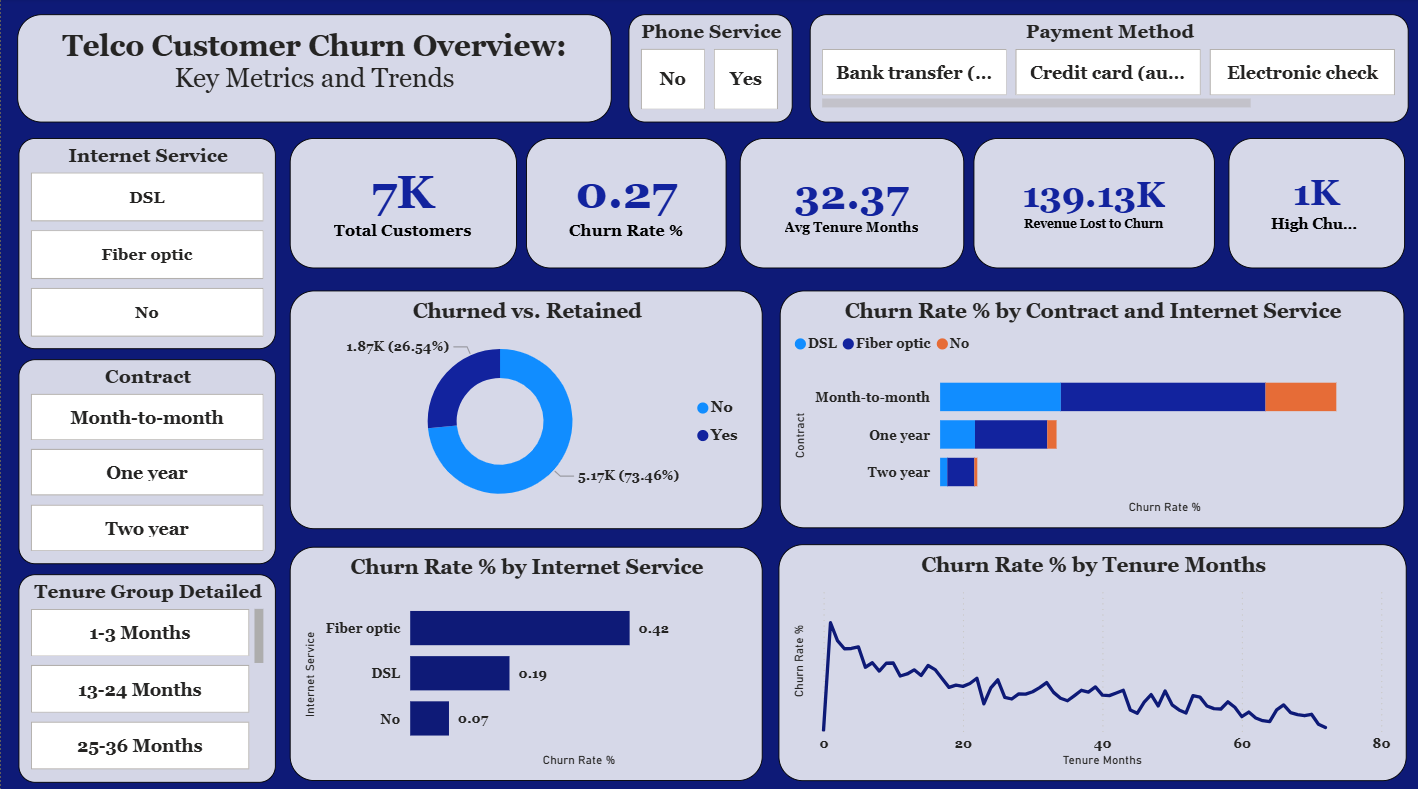

This screenshot's page, from the dashboard's own definition file:
{"tool":"powerbi","page":{"name":"overview","canvas":[1280,720],"ordinal":0},"visuals":[{"type":"cardVisual","fields":{"Data":["Telco_customer_churn.Total Customers"]},"box":[260,126.7,204.4,117.8],"z":0},{"type":"cardVisual","fields":{"Data":["Telco_customer_churn.Revenue Lost to Churn"]},"box":[876.7,126.7,217.8,117.8],"z":1000},{"type":"cardVisual","fields":{"Data":["Telco_customer_churn.Avg Tenure Months"]},"box":[666.7,126.7,202.2,117.8],"z":2000},{"type":"cardVisual","fields":{"Data":["Telco_customer_churn.Churn Rate %"]},"box":[473.3,126.7,181.1,117.8],"z":3000},{"type":"donutChart","title":"Churned vs. Retained","fields":{"Category":["Telco_customer_churn.Churn Label"],"Y":["CountNonNull(Telco_customer_churn.CustomerID)"]},"box":[260,263.3,426.7,215.6],"z":4000},{"type":"barChart","fields":{"Category":["Telco_customer_churn.Contract"],"Y":["Telco_customer_churn.Churn Rate %"],"Series":["Telco_customer_churn.Internet Service"]},"box":[702.2,263.3,563.3,214.4],"z":5000},{"type":"advancedSlicerVisual","fields":{"Values":["Telco_customer_churn.Contract"]},"box":[15.6,325.6,232.2,184.4],"z":6000},{"type":"advancedSlicerVisual","fields":{"Values":["Telco_customer_churn.Tenure Group Detailed"]},"box":[15.6,520,232.2,187.8],"z":7000},{"type":"clusteredBarChart","fields":{"Y":["Telco_customer_churn.Churn Rate %"],"Category":["Telco_customer_churn.Internet Service"]},"box":[260,495,426.2,211.2],"z":8000},{"type":"lineChart","fields":{"Y":["Telco_customer_churn.Churn Rate %"],"Category":["Telco_customer_churn.Tenure Months"]},"box":[701.1,493.1,566.7,213.8],"z":9000},{"type":"advancedSlicerVisual","fields":{"Values":["Telco_customer_churn.Internet Service"]},"box":[15.6,126.7,232.2,190],"z":10000},{"type":"advancedSlicerVisual","fields":{"Values":["Telco_customer_churn.Payment Method"]},"box":[728.9,14.4,540,97.8],"z":11000},{"type":"advancedSlicerVisual","fields":{"Values":["Telco_customer_churn.Phone Service"]},"box":[565.6,14.4,147.8,97.8],"z":12000},{"type":"cardVisual","fields":{"Data":["Telco_customer_churn.High Churn Risk Customers"]},"box":[1106.7,126.7,158.9,117.8],"z":13000},{"type":"textbox","box":[15,15,536.2,97.5],"z":14000}]}

Visuals, with their boxes in screenshot pixels (x1, y1, x2, y2), scaled from the page's 1280x720 canvas onto the 1418x789 screenshot:
cardVisual - Telco_customer_churn.Total Customers: (x1=288, y1=139, x2=514, y2=268)
cardVisual - Telco_customer_churn.Revenue Lost to Churn: (x1=971, y1=139, x2=1213, y2=268)
cardVisual - Telco_customer_churn.Avg Tenure Months: (x1=739, y1=139, x2=963, y2=268)
cardVisual - Telco_customer_churn.Churn Rate %: (x1=524, y1=139, x2=725, y2=268)
"Churned vs. Retained" donutChart: (x1=288, y1=289, x2=761, y2=525)
barChart - Telco_customer_churn.Contract x Telco_customer_churn.Churn Rate %: (x1=778, y1=289, x2=1402, y2=523)
advancedSlicerVisual - Telco_customer_churn.Contract: (x1=17, y1=357, x2=275, y2=559)
advancedSlicerVisual - Telco_customer_churn.Tenure Group Detailed: (x1=17, y1=570, x2=275, y2=776)
clusteredBarChart - Telco_customer_churn.Churn Rate % x Telco_customer_churn.Internet Service: (x1=288, y1=542, x2=760, y2=774)
lineChart - Telco_customer_churn.Churn Rate % x Telco_customer_churn.Tenure Months: (x1=777, y1=540, x2=1404, y2=775)
advancedSlicerVisual - Telco_customer_churn.Internet Service: (x1=17, y1=139, x2=275, y2=347)
advancedSlicerVisual - Telco_customer_churn.Payment Method: (x1=807, y1=16, x2=1406, y2=123)
advancedSlicerVisual - Telco_customer_churn.Phone Service: (x1=627, y1=16, x2=790, y2=123)
cardVisual - Telco_customer_churn.High Churn Risk Customers: (x1=1226, y1=139, x2=1402, y2=268)
textbox: (x1=17, y1=16, x2=611, y2=123)
